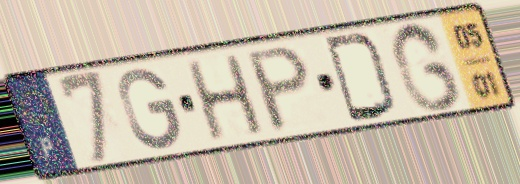7: (53, 66, 112, 168)
D: (320, 31, 401, 125)
G: (386, 18, 466, 115), (115, 65, 184, 153)
H: (182, 51, 270, 145)
P: (243, 42, 314, 137)
